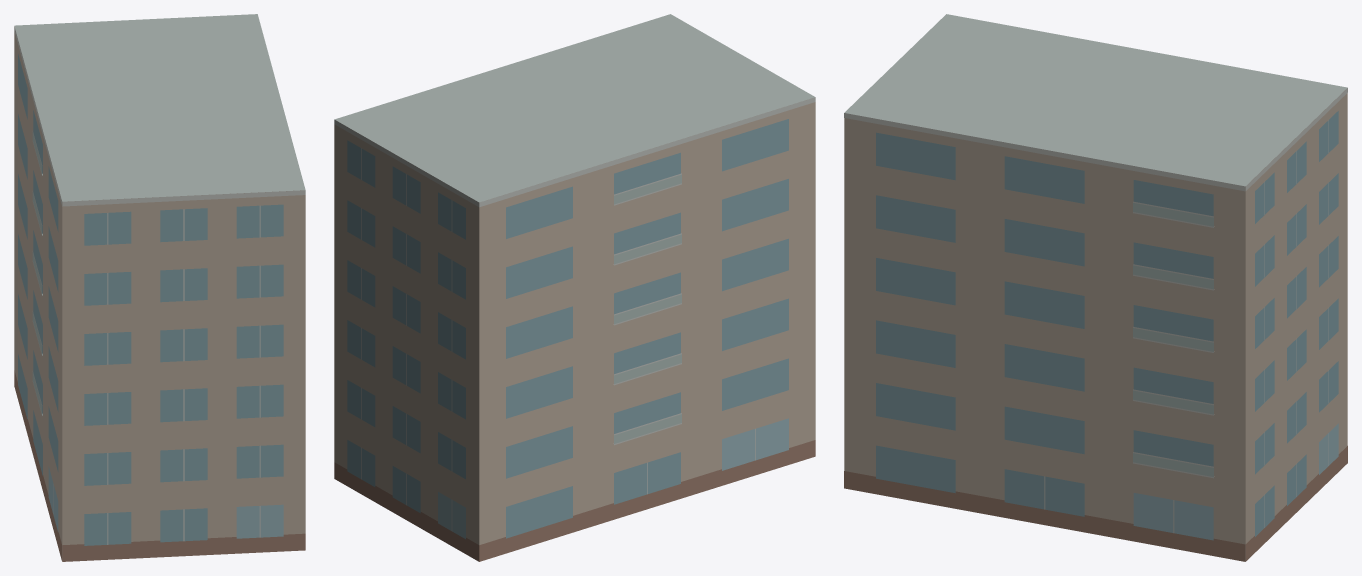
Rendered from survey-upis-32489377.glb.
3 renders of one model, left to right at view 1: azimuth 30°, elevation 25°; view 2: azimuth 150°, elevation 25°; view 3: azimuth 270°, elevation 25°, orthographic. The views are drawn at different scales.
Visible parts, largest first — view 1: survey-upis-32489377.tmp; view 2: survey-upis-32489377.tmp; view 3: survey-upis-32489377.tmp.
Boxes of the visible parts, bbox=[...] form: survey-upis-32489377.tmp: bbox=[14, 14, 305, 561]; survey-upis-32489377.tmp: bbox=[334, 14, 815, 561]; survey-upis-32489377.tmp: bbox=[844, 14, 1347, 561].
Size of the model in its own units: 18.03 by 18.3 by 22.26.
